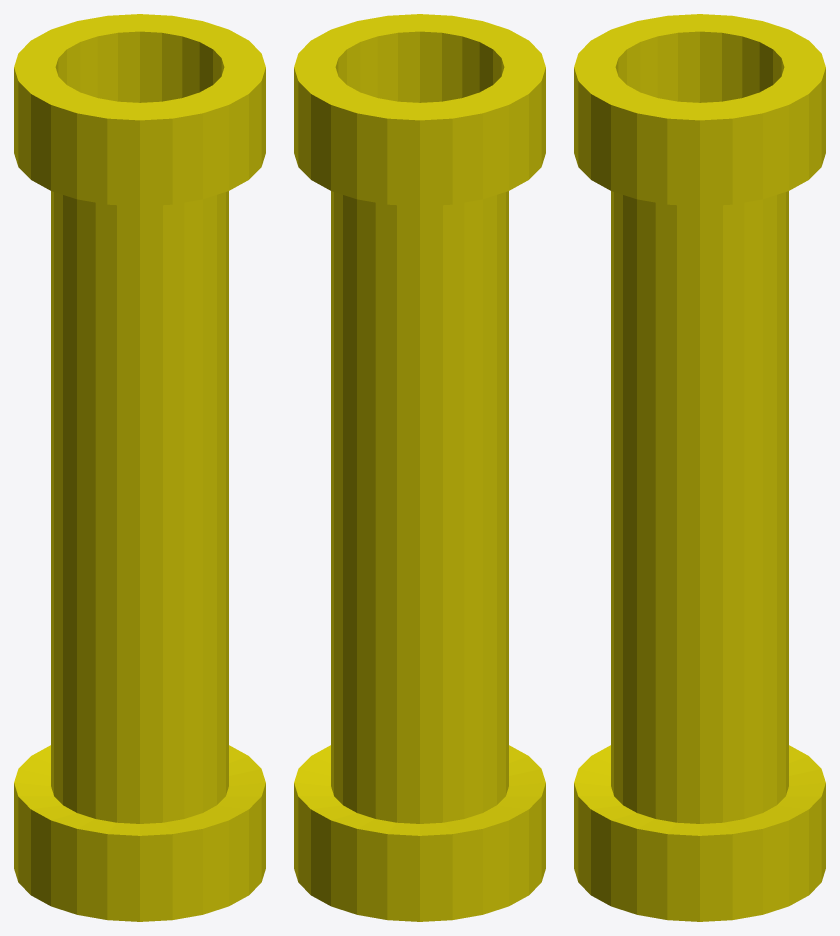
Rendered from YellowPipe.glb.
The picture shows the model from 3 angles, left to right: view 1: azimuth 30°, elevation 25°; view 2: azimuth 150°, elevation 25°; view 3: azimuth 270°, elevation 25°; orthographic projection.
Visible parts, largest first — view 1: YellowPipe; view 2: YellowPipe; view 3: YellowPipe.
Part boxes in pixels (x1,y1,x2,y2): YellowPipe: [14, 14, 265, 921]; YellowPipe: [294, 14, 545, 921]; YellowPipe: [574, 14, 825, 921].
Size of the model in its own units: 2.83 by 9.95 by 2.83.
